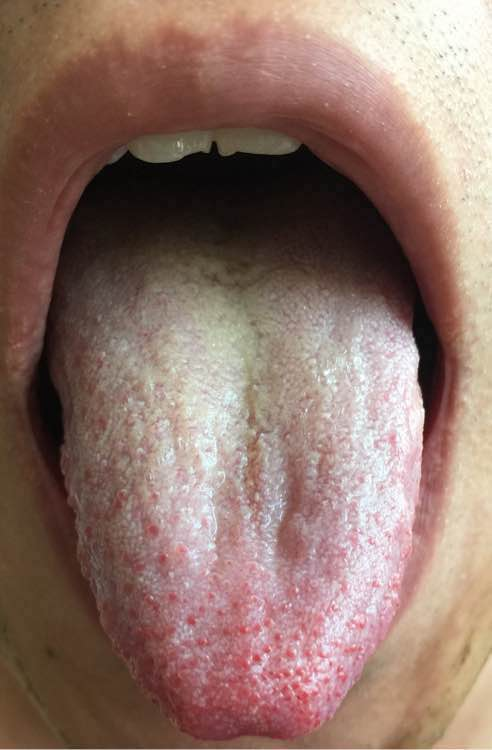hongdianshe: (145, 521, 161, 538), (154, 549, 169, 564), (183, 610, 196, 625), (165, 588, 178, 602)
hongshe: (45, 162, 426, 741)
huangtaishe: (45, 162, 426, 741)
xinfeiao: (211, 717, 285, 744)
